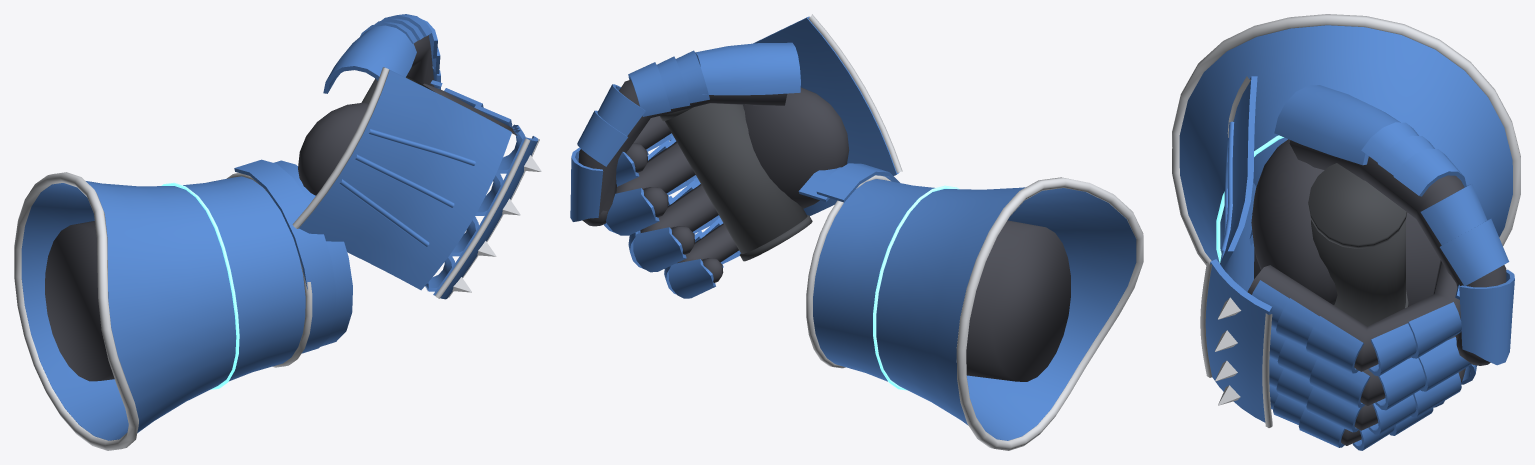
Rendered from P10_gauntlet_0.glb.
3 renders of one model, left to right at view 1: azimuth 30°, elevation 25°; view 2: azimuth 150°, elevation 25°; view 3: azimuth 270°, elevation 25°, orthographic. The views are drawn at different scales.
Visible parts, largest first — view 1: gauntlet_0; view 2: gauntlet_0; view 3: gauntlet_0.
Boxes of the visible parts, box(x1,y1,x2,y2) form: gauntlet_0: box(14, 14, 541, 450); gauntlet_0: box(570, 14, 1143, 450); gauntlet_0: box(1172, 14, 1520, 450).
Bounding box in the file's own units: 0.2339 × 0.1547 × 0.1174.
